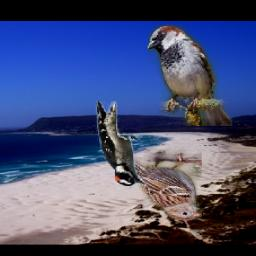Sparrow: (147, 24, 231, 126), (121, 150, 201, 221)
Woodpecker: (95, 102, 145, 187)
